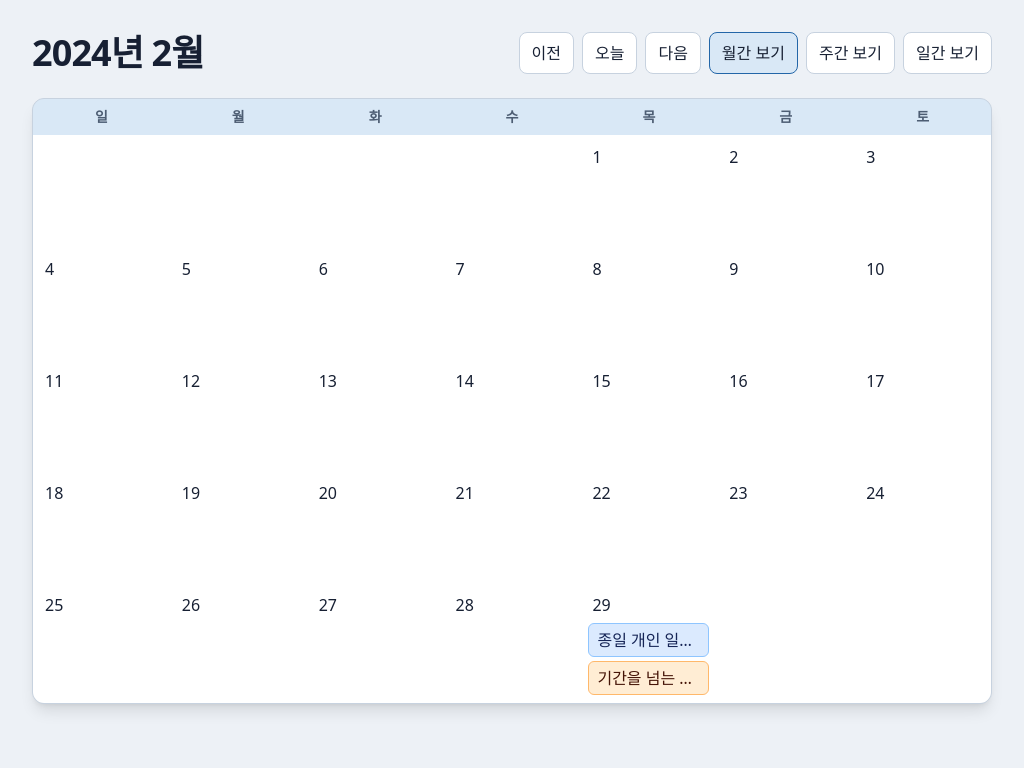
ScheduleCalendar › shows the explicit empty state when no other attendees are present
Click the button "기간을 넘는 팀 회의 · 팀" at (649, 678), box [588,661,709,695]
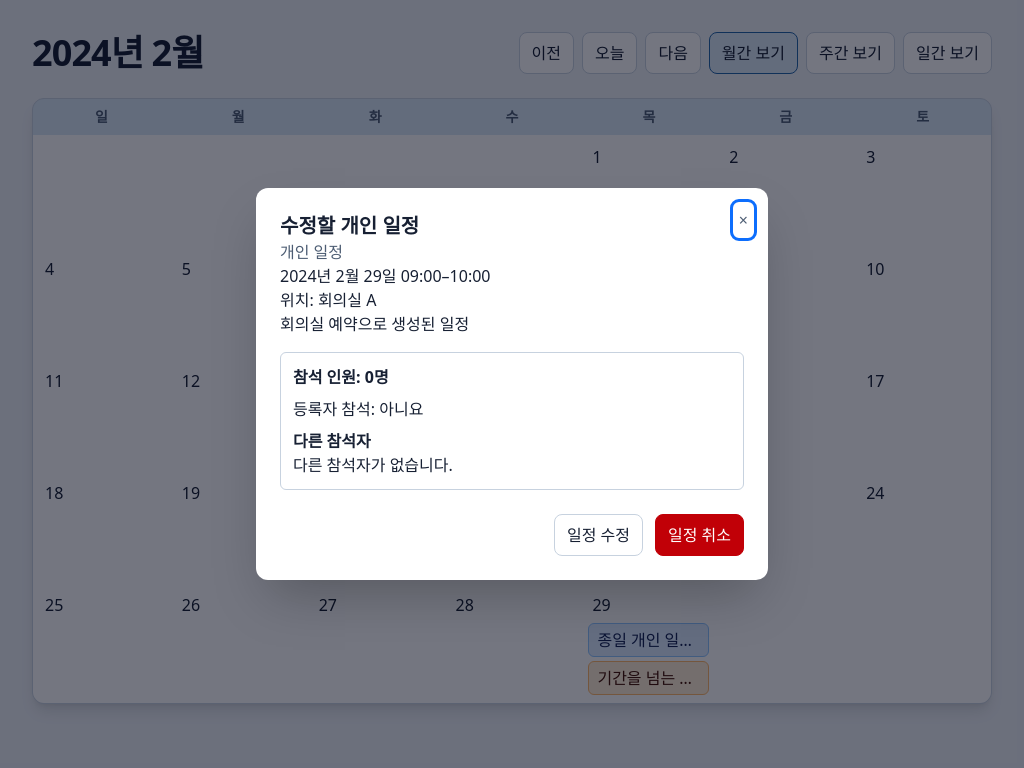
Expected: the text "다른 참석자가 없습니다." is shown, [293,454,453,476]
Expected: the text "참석 인원: 0명" is shown, [293,366,389,388]
Expected: the text "등록자 참석: 아니요" is shown, [293,398,423,420]
